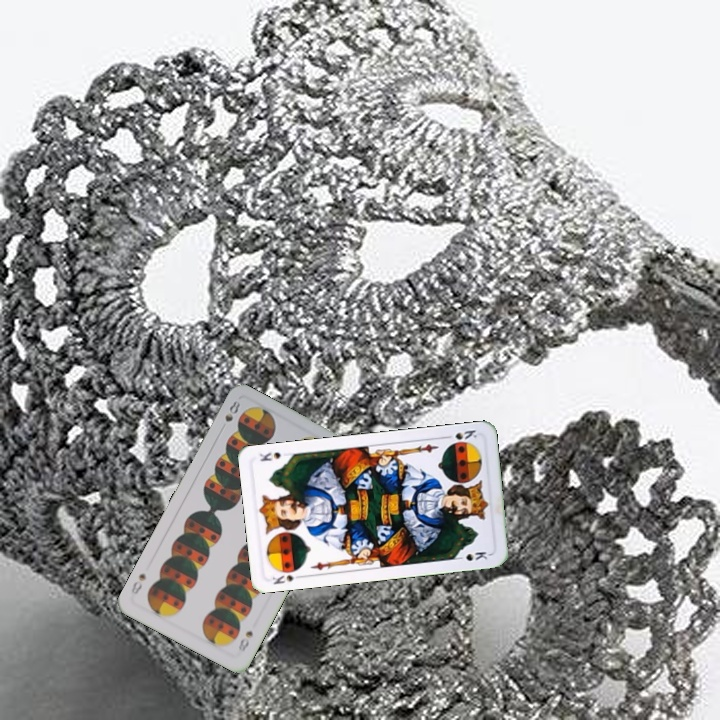S8: (234, 626, 256, 656), (221, 396, 243, 424)
SK: (440, 426, 480, 442), (267, 571, 306, 587)
